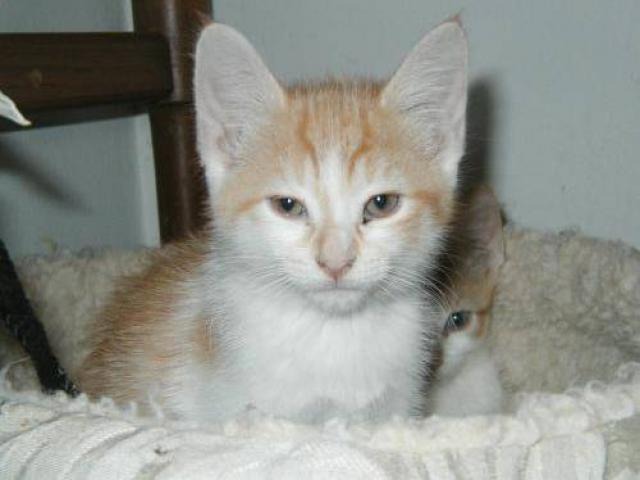cat: (11, 12, 508, 445)
